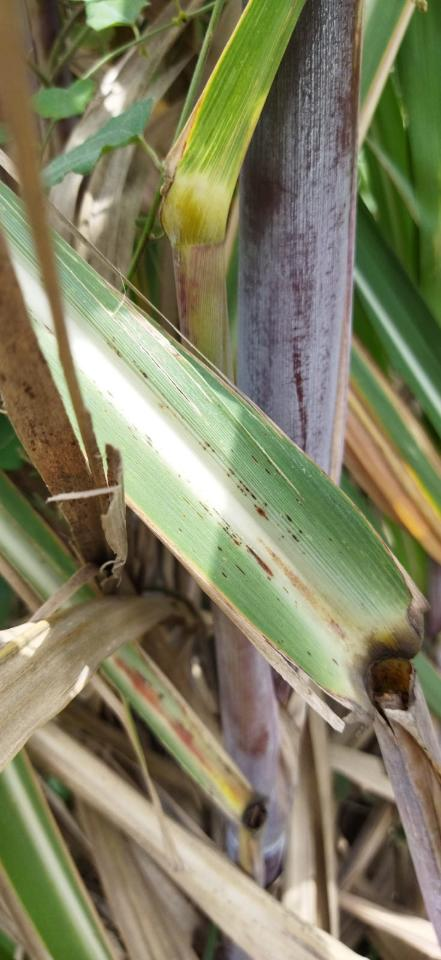Rust: (196, 497, 277, 581), (223, 464, 271, 524), (283, 511, 306, 543), (250, 453, 273, 478), (104, 334, 123, 359), (131, 359, 150, 380), (197, 439, 216, 455), (234, 563, 247, 579), (219, 568, 230, 580), (216, 545, 223, 552)
